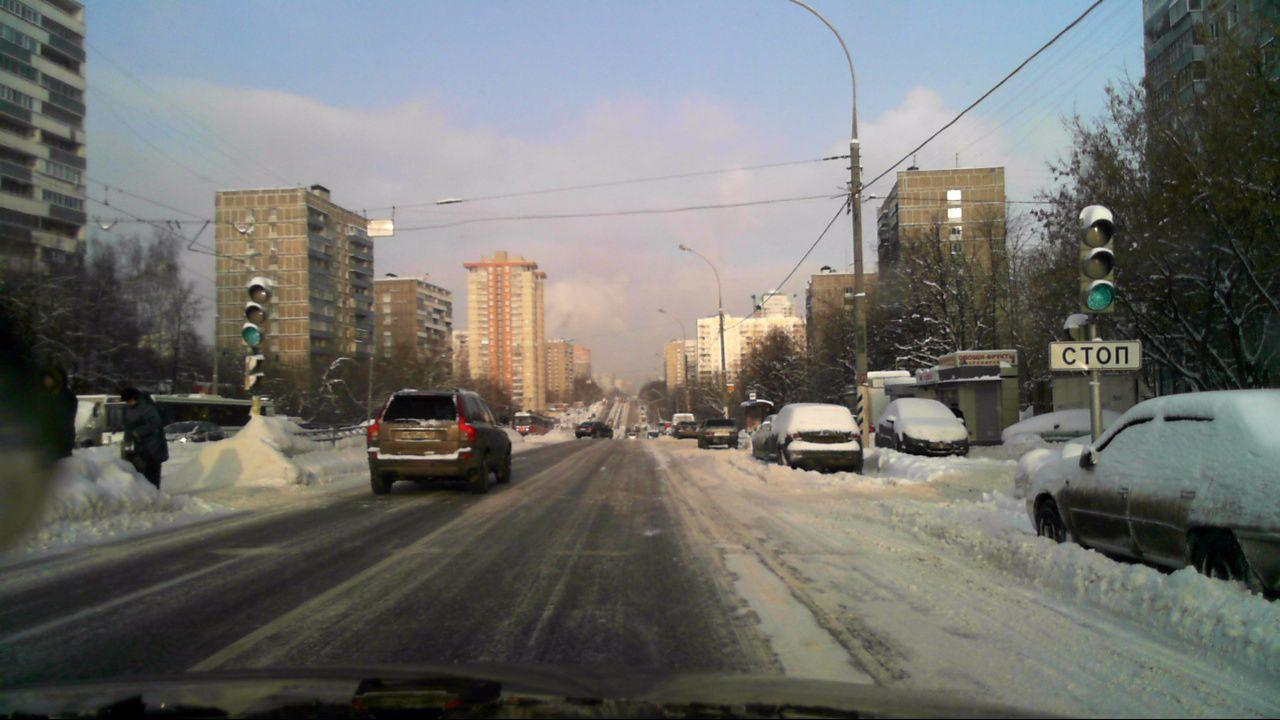6_16: (1048, 343, 1144, 372)
